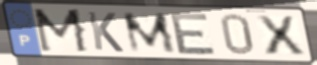0: (218, 12, 257, 57)
E: (169, 12, 219, 56)
K: (85, 10, 126, 54)
M: (31, 7, 92, 55), (120, 11, 180, 54)
X: (253, 14, 308, 56)
